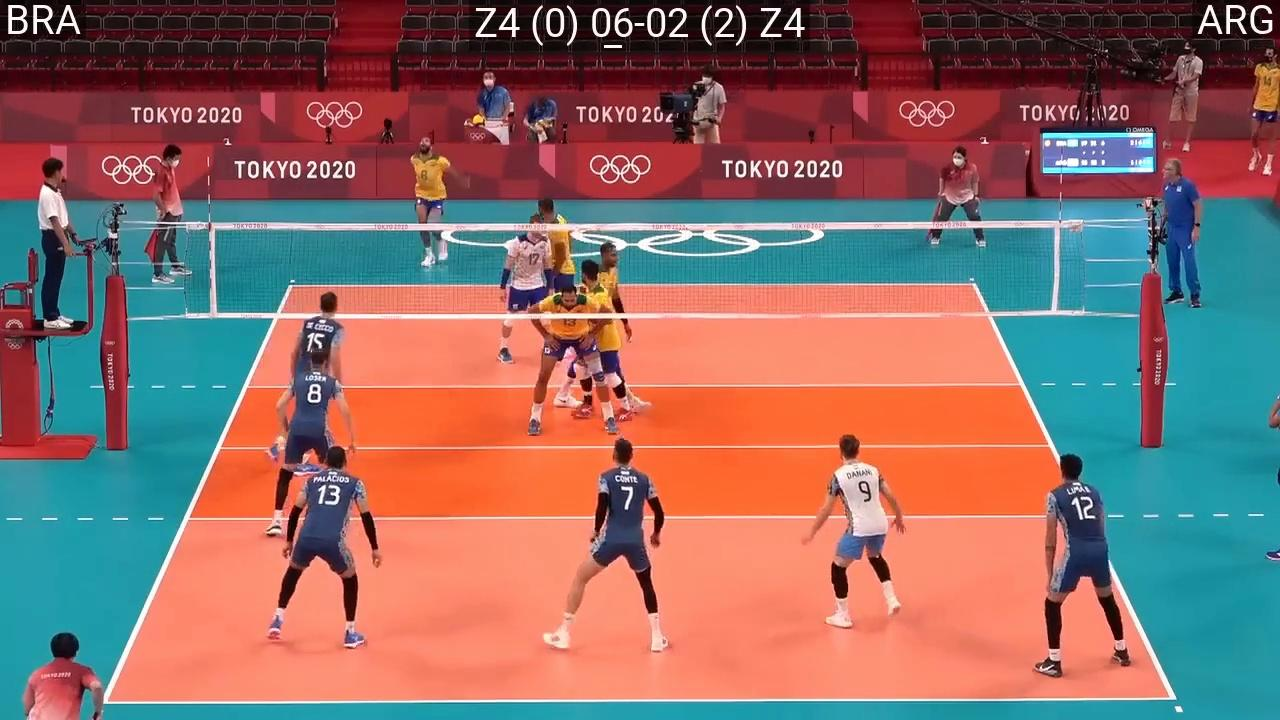ball: (472, 114, 485, 129)
